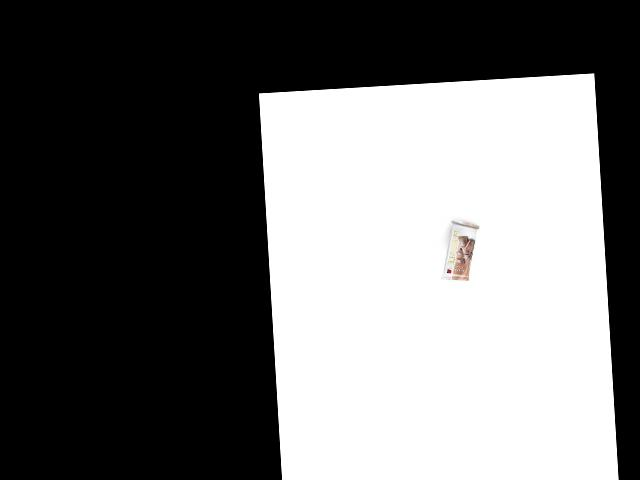chocolate: (436, 222, 487, 282)
